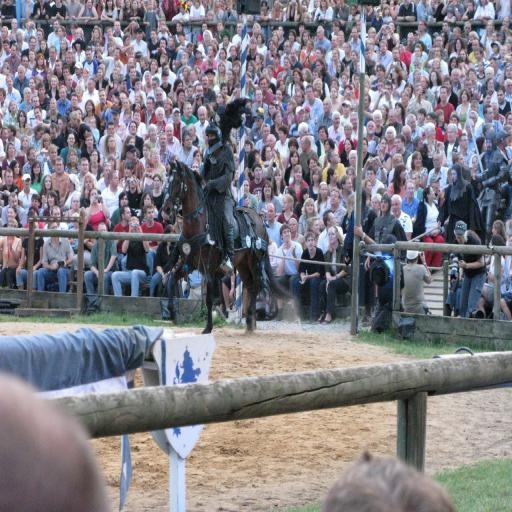horse: (161, 158, 293, 336)
